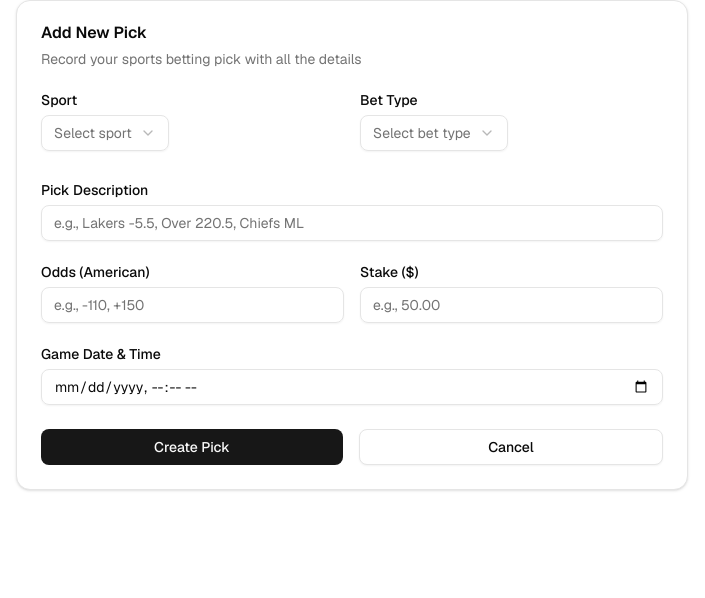
it: AddPickForm › calculates potential winnings correctly for negative odds
In the number field labelled "Odds (American)": {"x": 192, "y": 305} [41, 287, 344, 323], type "-110"
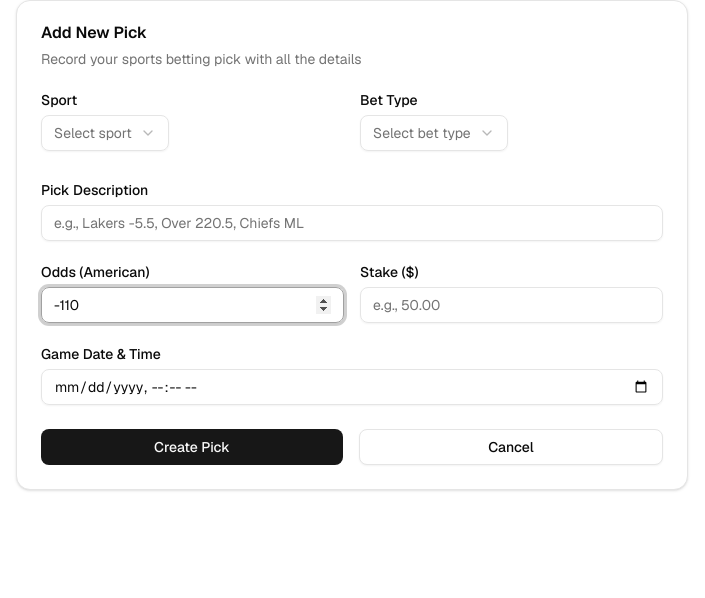
In the number field labelled "Stake ($)": {"x": 512, "y": 305} [360, 287, 663, 323], type "100"
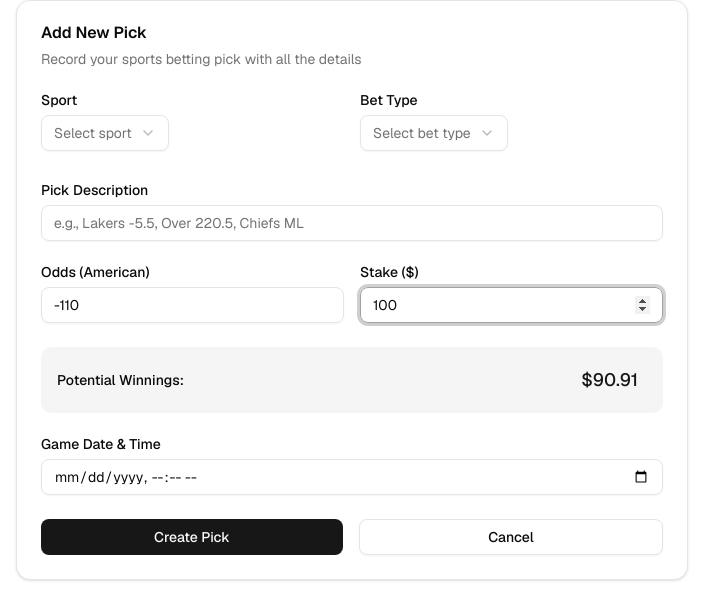
Check: the text "$90.91" is shown, box [572, 363, 647, 397]
